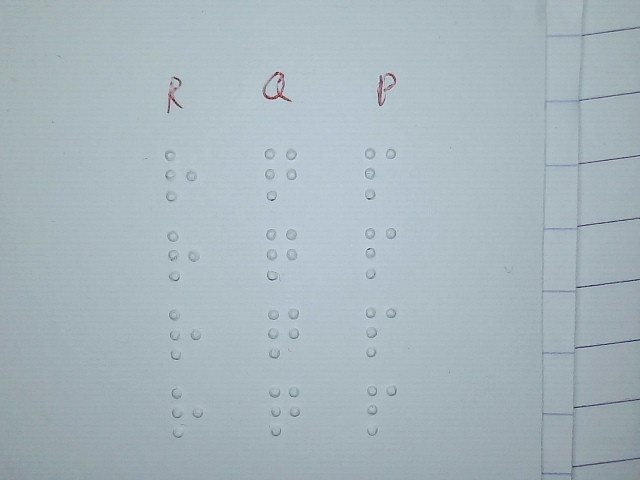P: (363, 146, 397, 200), (364, 226, 398, 280), (364, 304, 398, 358), (365, 383, 399, 437)
Q: (264, 146, 298, 200), (265, 227, 299, 281), (267, 306, 301, 360), (269, 384, 301, 437)
R: (164, 148, 198, 202), (167, 228, 201, 282), (168, 307, 202, 361), (171, 385, 205, 439)
